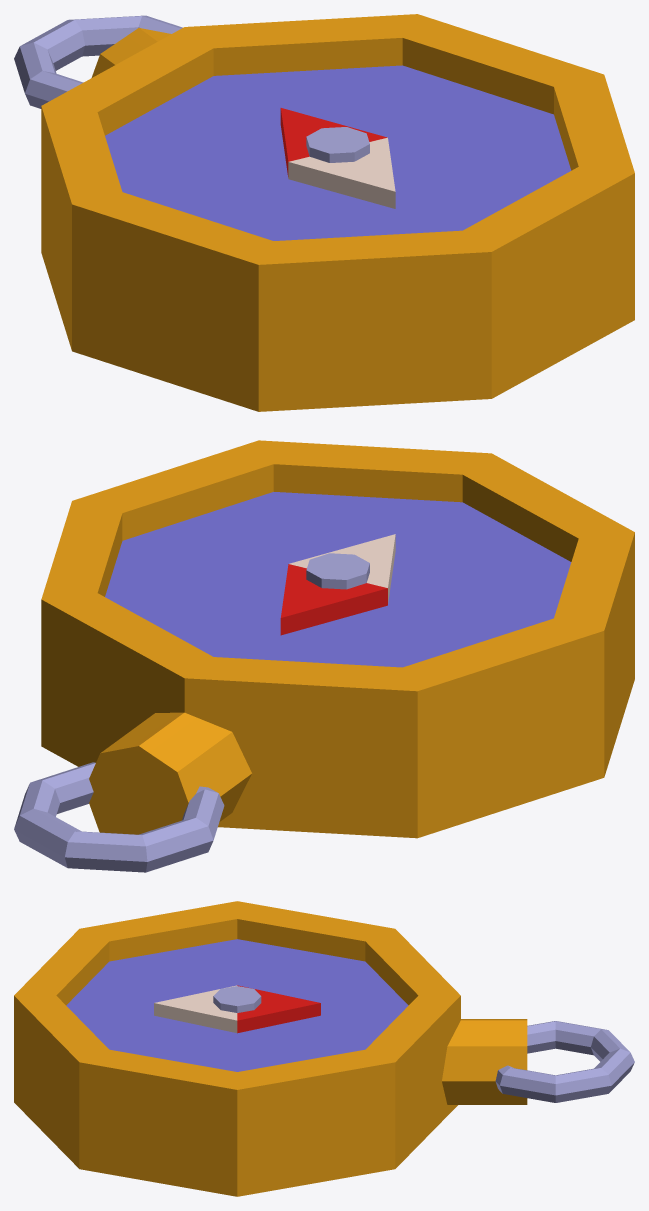
File: Compass.fbx
3 renders of one model, top to bottom at view 1: azimuth 30°, elevation 25°; view 2: azimuth 150°, elevation 25°; view 3: azimuth 270°, elevation 25°, orthographic. The views are drawn at different scales.
Parts seen in each view (by area): view 1: Compass; view 2: Compass; view 3: Compass.
Boxes of the visible parts, x1,y1,x2,y2 form: Compass: (14,14,634,411); Compass: (14,440,634,872); Compass: (14,901,634,1196).
Bounding box in the file's own units: 37.4 × 9.97 × 51.97.
1 material, 1 textured.
